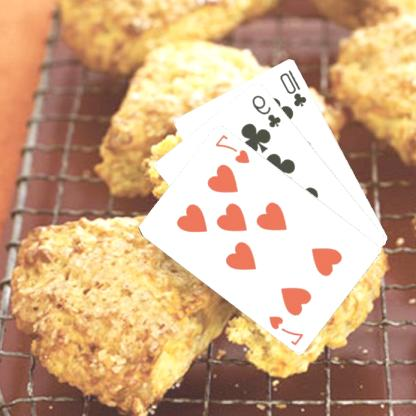10C: (278, 66, 310, 108)
7H: (267, 312, 307, 347), (214, 131, 253, 165)
9C: (250, 91, 284, 129)
